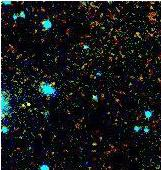star: (11, 91, 41, 121)
